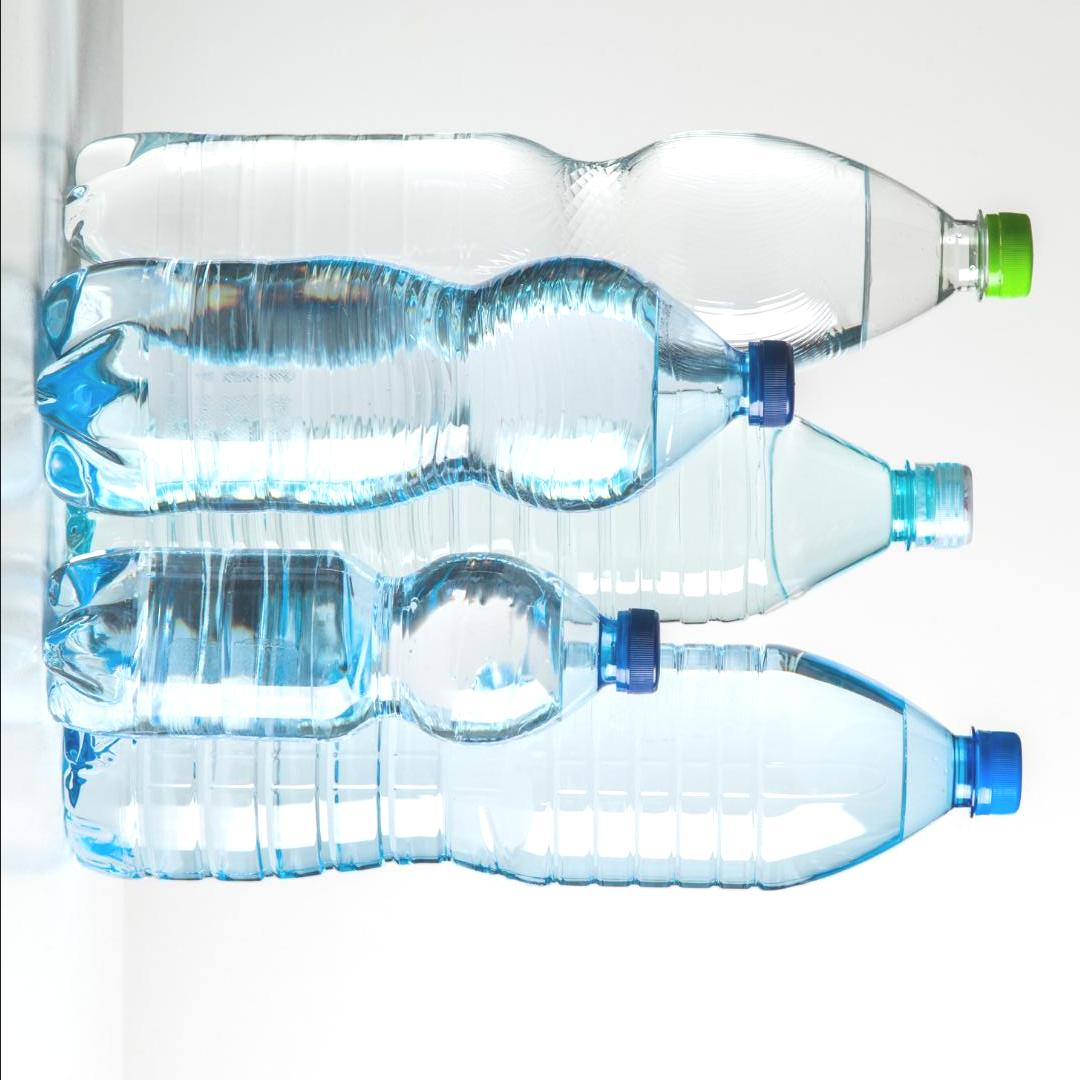bottle: (60, 116, 1030, 371), (62, 642, 1030, 894), (27, 247, 799, 519), (72, 403, 986, 630), (41, 547, 664, 741)
